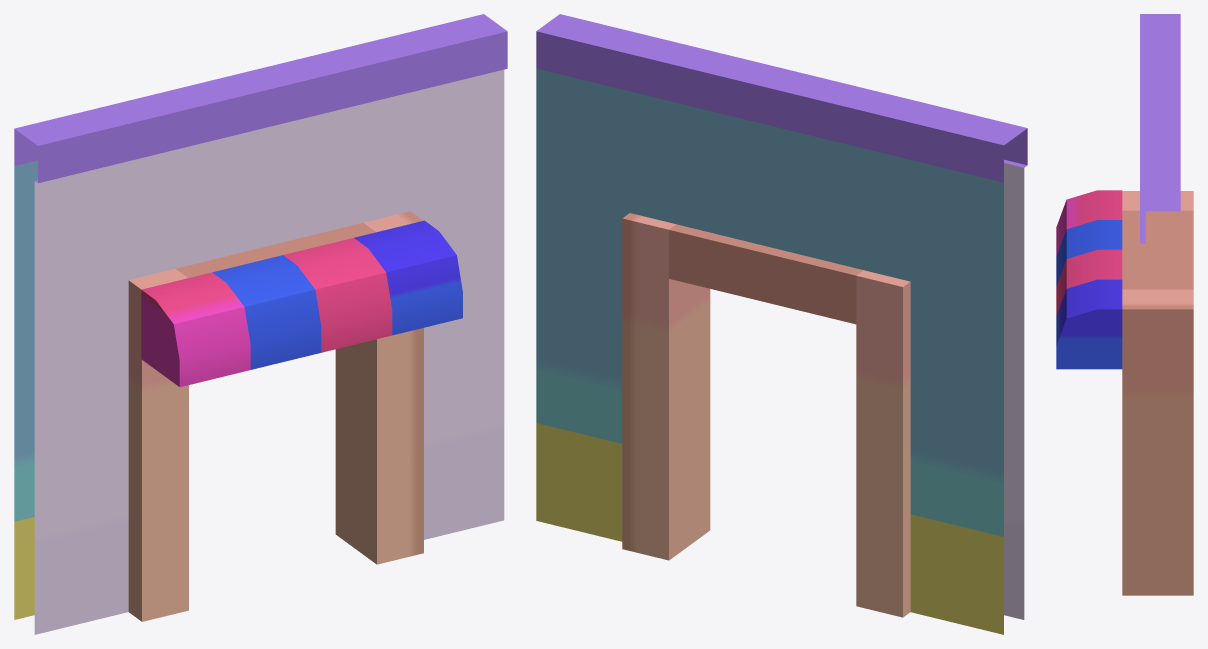
The model's file is wall_outside.fbx.
3 views of the same model, side by side, from view 1: azimuth 30°, elevation 25°; view 2: azimuth 150°, elevation 25°; view 3: azimuth 270°, elevation 25° (orthographic). The views are drawn at different scales.
Visible parts, largest first — view 1: wall_outside; view 2: wall_outside; view 3: wall_outside.
Boxes of the visible parts, x1,y1,x2,y2 form: wall_outside: [14, 14, 507, 634]; wall_outside: [536, 14, 1027, 634]; wall_outside: [1056, 14, 1193, 595].
Size of the model in its own units: 400 by 118 by 400.
